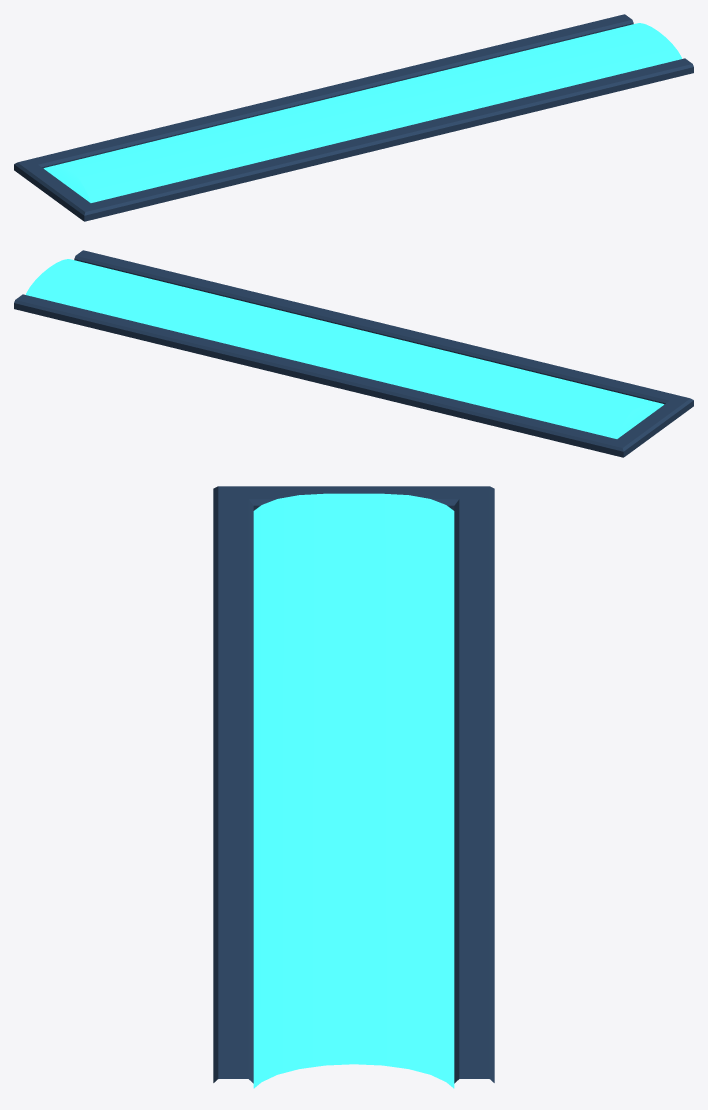
The model's file is Light_Trim_01_SquareEnd.fbx.
3 views of the same model, one above another, from view 1: azimuth 30°, elevation 25°; view 2: azimuth 150°, elevation 25°; view 3: azimuth 270°, elevation 25° (orthographic). The views are drawn at different scales.
Visible parts, largest first — view 1: Light_Trim_01_SquareEnd.001; view 2: Light_Trim_01_SquareEnd.001; view 3: Light_Trim_01_SquareEnd.001.
Part boxes in pixels (<box>): Light_Trim_01_SquareEnd.001: <box>14,14,693,221</box>; Light_Trim_01_SquareEnd.001: <box>14,250,693,457</box>; Light_Trim_01_SquareEnd.001: <box>213,486,494,1088</box>.
Size of the model in its own units: 0.5 by 0.0123 by 0.1.
